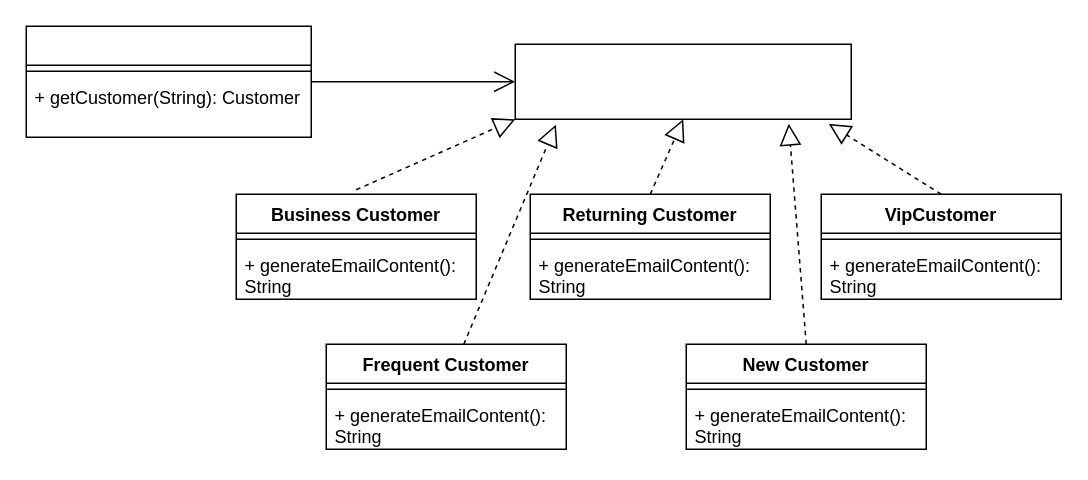
Image size: 1088x480. Some labels were removed from this diagram. The shapes that lost their labels are listed below. From the top down, each one's box as (x1, y1, x2, y2) in pixels, then its label:
(25, 25, 311, 137): CustomerFactory
(514, 43, 851, 119): «interface» Customer
